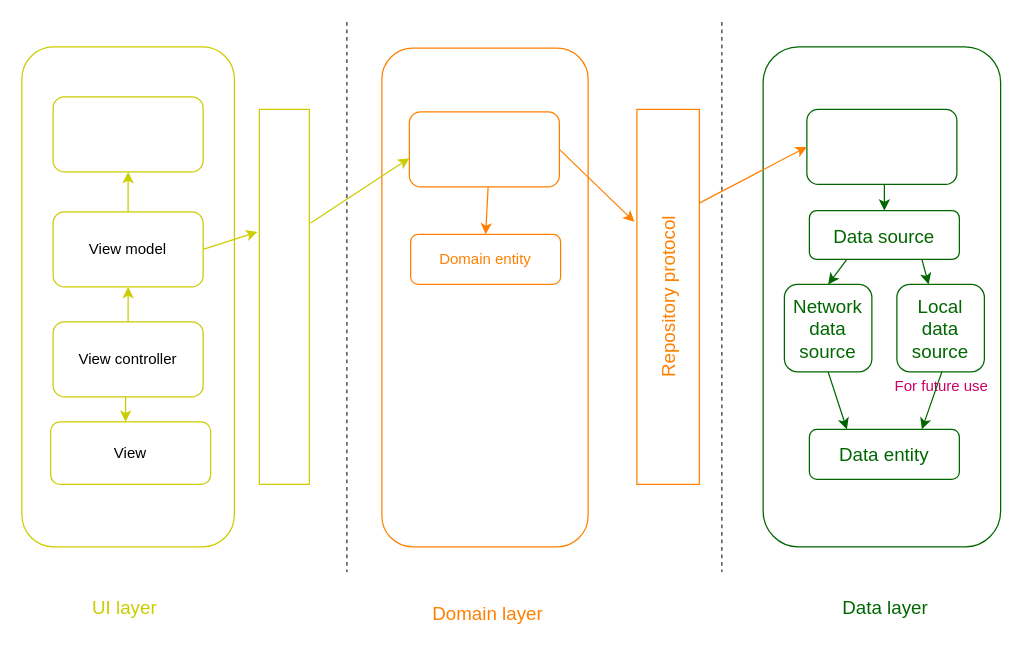
Image size: 1023x648. Some labels were removed from this diagram. Here are the shapes that lost their labels. From the top down, the centre of each, then its label:
the point at 127,134: View entity
the point at 483,149: Usecase
the point at 881,146: Repository
the point at 283,296: Usecase protocol
